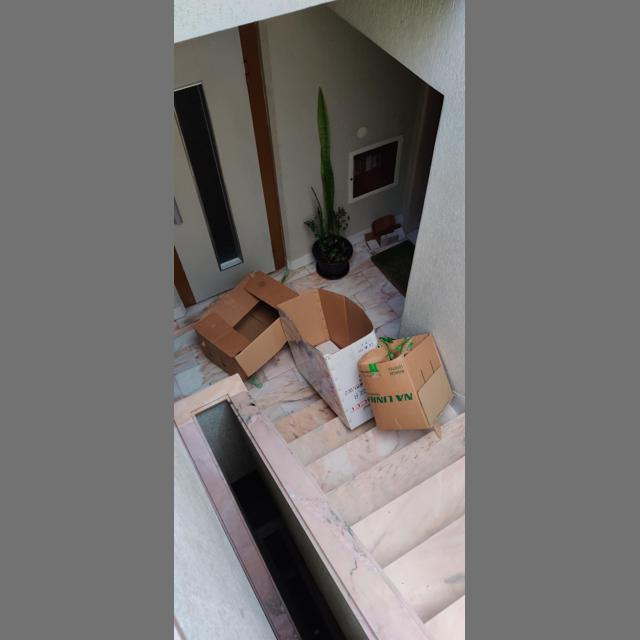litter: (277, 288, 379, 430), (193, 271, 299, 383), (358, 333, 454, 439), (365, 214, 407, 250)
